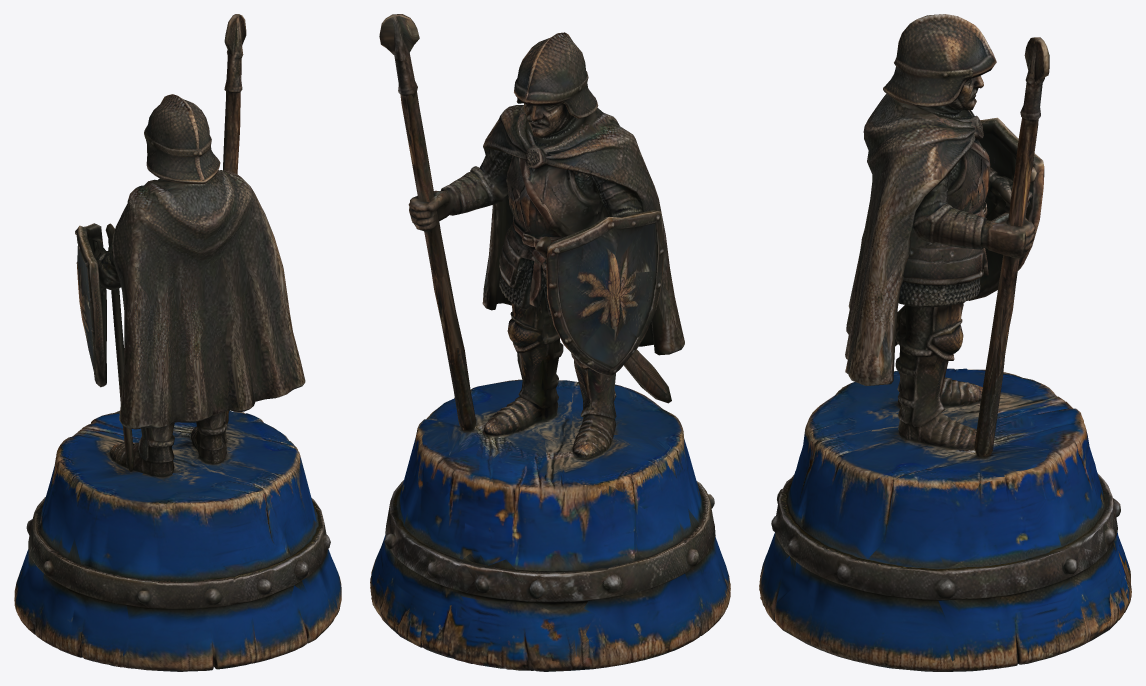
The model's file is piece_infantry.glb.
3 renders of one model, left to right at view 1: azimuth 30°, elevation 25°; view 2: azimuth 150°, elevation 25°; view 3: azimuth 270°, elevation 25°, orthographic. The views are drawn at different scales.
Parts seen in each view (by area): view 1: piece_infantry; view 2: piece_infantry; view 3: piece_infantry.
Boxes of the visible parts, <box> form: piece_infantry: <box>14,14,341,671</box>; piece_infantry: <box>370,14,730,671</box>; piece_infantry: <box>759,14,1131,671</box>.
Size of the model in its own units: 0.9997 by 1.81 by 0.9992.
Materials: 1 (1 with a texture image).
